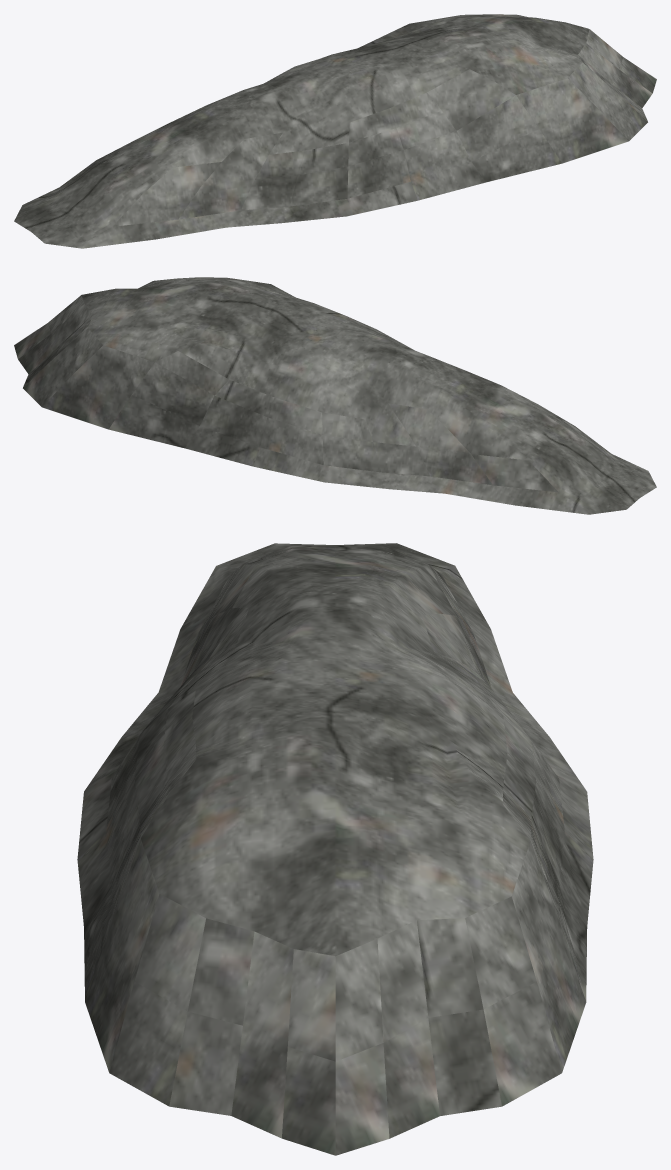
The model's file is nyc_rock_ledge.glb.
3 renders of one model, top to bottom at view 1: azimuth 30°, elevation 25°; view 2: azimuth 150°, elevation 25°; view 3: azimuth 270°, elevation 25°, orthographic. The views are drawn at different scales.
Visible parts, largest first — view 1: nyc_rock_ledge; view 2: nyc_rock_ledge; view 3: nyc_rock_ledge.
Part boxes in pixels (left/top/right/bottom): nyc_rock_ledge: left=14, top=14, right=656, bottom=248; nyc_rock_ledge: left=14, top=277, right=656, bottom=514; nyc_rock_ledge: left=77, top=543, right=593, bottom=1155.
Size of the model in its own units: 14.04 by 2.17 by 5.
1 material, 1 textured.
